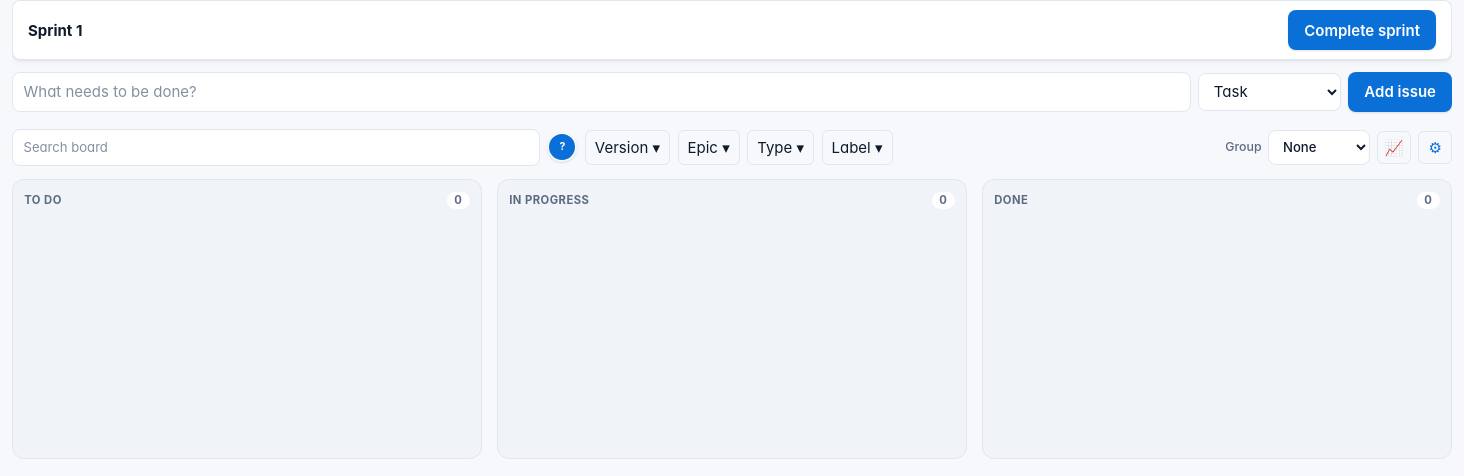
Test: Quick-add during an active sprint (Jira parity) › adds the new issue to the active sprint so it stays on the board
Type "Hotfix" into the field named "New issue title" at coordinates (601, 92), box x1=12 y1=72 x2=1191 y2=112
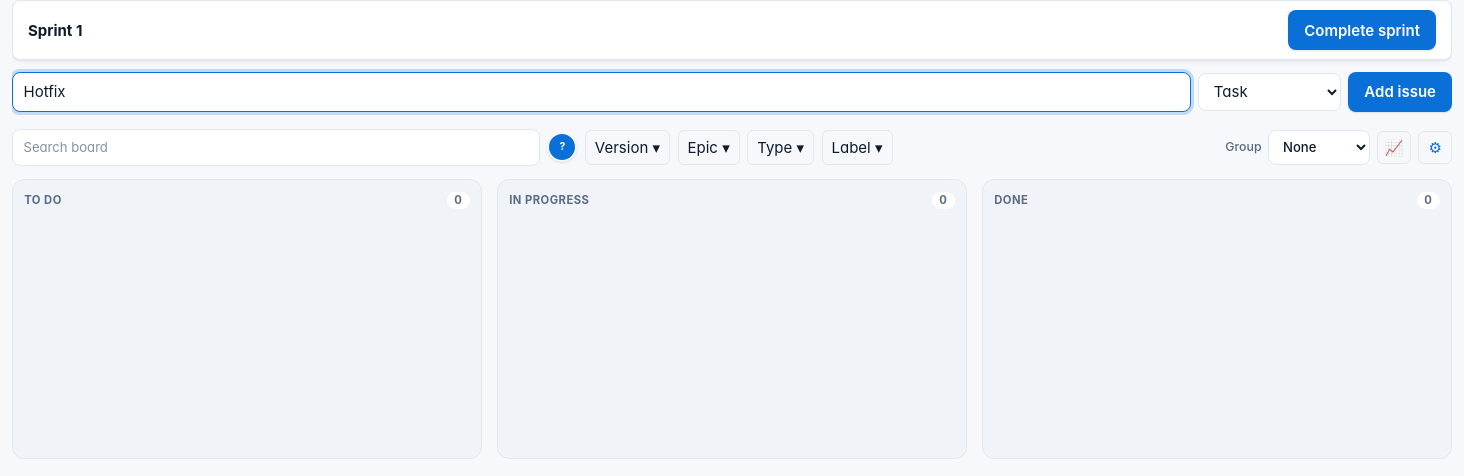
Click the button "Add issue" at coordinates (1400, 92), box x1=1348 y1=72 x2=1452 y2=112
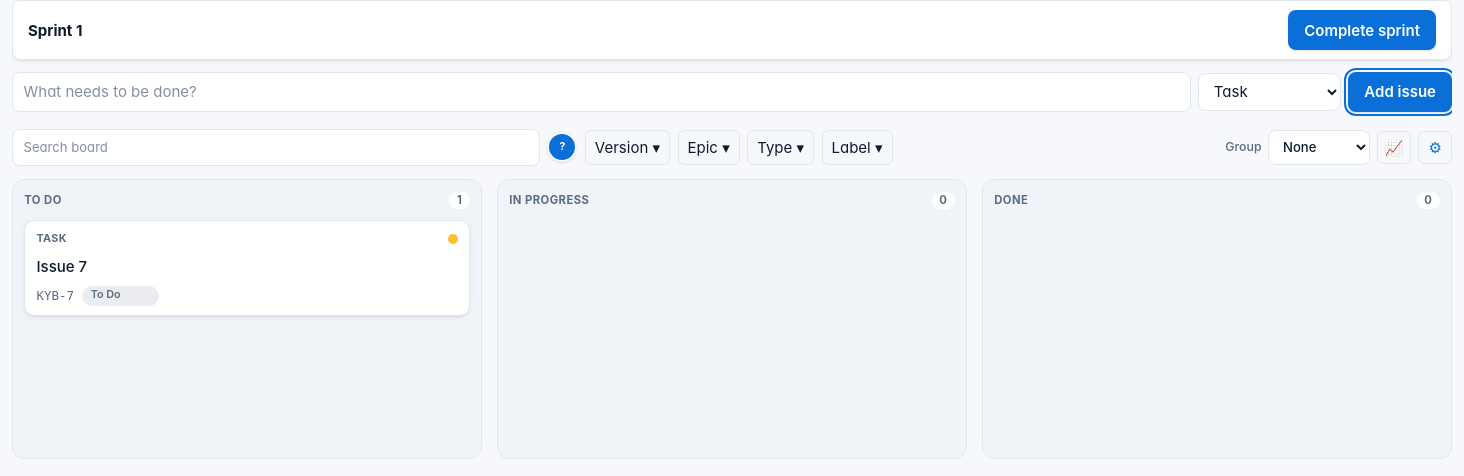
Result: the button "Issue 7" is shown at x1=36 y1=250 x2=458 y2=284
